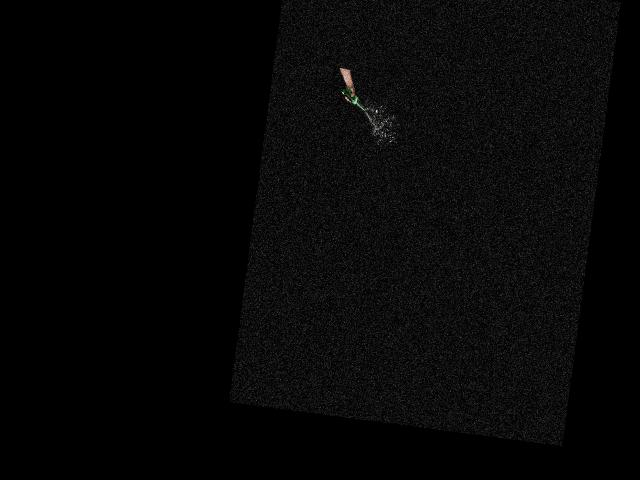beer: (339, 85, 368, 110)
